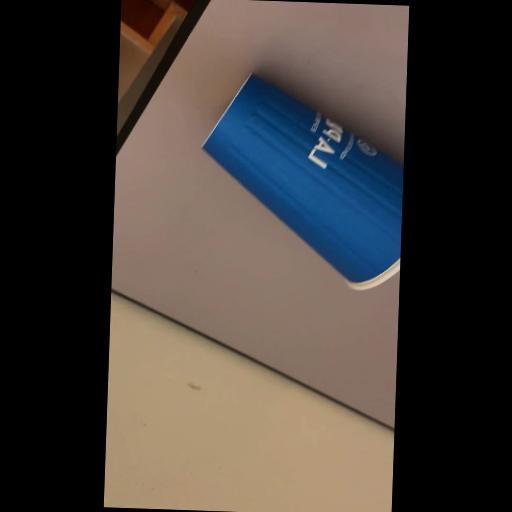lp_paper_cup: (190, 64, 406, 298)
